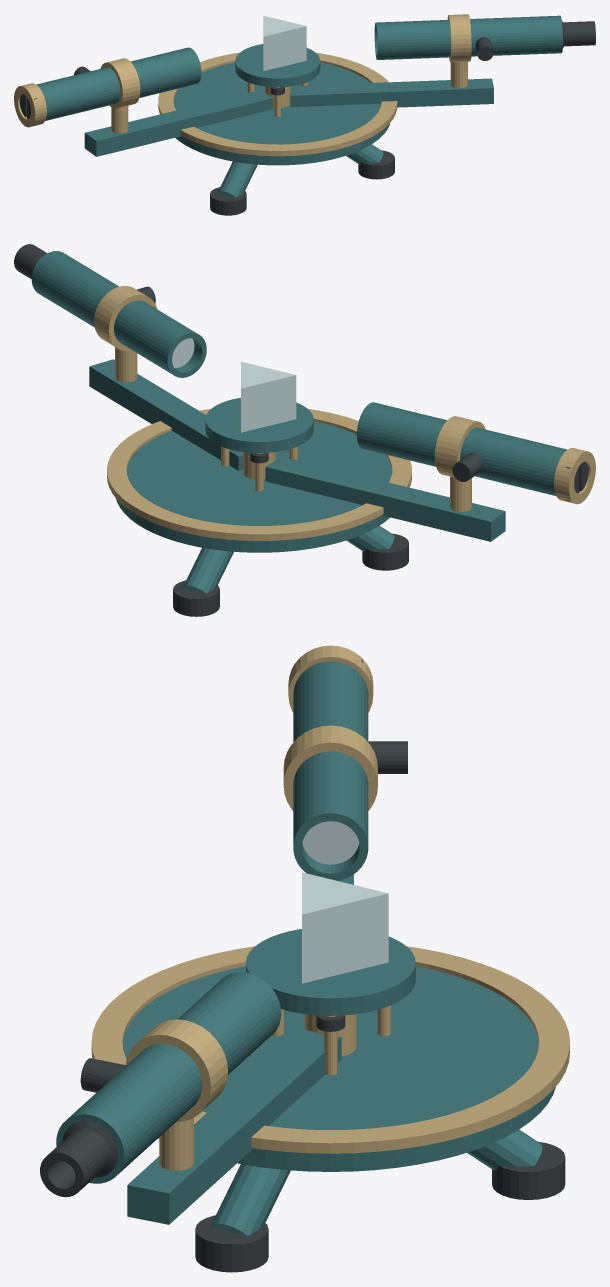
3 renders of one model, top to bottom at view 1: azimuth 30°, elevation 25°; view 2: azimuth 150°, elevation 25°; view 3: azimuth 270°, elevation 25°, orthographic. The views are drawn at different scales.
Visible parts, largest first — view 1: WholeCircularBearingTable, WholeLongRecessedTube1, WholeLongRecessedTube0, WholeIndependentRadialArm1, WholeBlankAnnularTableRim, WholeIndependentRadialArm0, WholeRaisedPrismTable, WholeOpaqueTriangularPrism, WholeTubeSupportCollar0, WholeTubeSupportCollar1, WholeRearSlitFrame, WholeShortSplayedSupport1 (+7 smaller); view 2: WholeCircularBearingTable, WholeLongRecessedTube0, WholeLongRecessedTube1, WholeBlankAnnularTableRim, WholeIndependentRadialArm0, WholeIndependentRadialArm1, WholeRaisedPrismTable, WholeOpaqueTriangularPrism, WholeRearSlitFrame, WholeTubeSupportCollar1, WholeTubeSupportCollar0, WholeShortSplayedSupport0 (+8 smaller); view 3: WholeCircularBearingTable, WholeBlankAnnularTableRim, WholeLongRecessedTube1, WholeIndependentRadialArm1, WholeLongRecessedTube0, WholeRaisedPrismTable, WholeOpaqueTriangularPrism, WholeSmallRecessedOcular, WholeTubeSupportCollar1, WholeShortSplayedSupport2, WholeTubeSupportCollar0, WholeGroundPad2 (+8 smaller).
Part boxes in pixels (x1=…): WholeCircularBearingTable: x1=173, y1=62, x2=389, y2=165; WholeLongRecessedTube1: x1=374, y1=15, x2=562, y2=59; WholeLongRecessedTube0: x1=36, y1=47, x2=201, y2=120; WholeIndependentRadialArm1: x1=290, y1=78, x2=493, y2=107; WholeBlankAnnularTableRim: x1=158, y1=52, x2=397, y2=156; WholeIndependentRadialArm0: x1=84, y1=89, x2=272, y2=156; WholeRaisedPrismTable: x1=235, y1=44, x2=320, y2=87; WholeOpaqueTriangularPrism: x1=263, y1=15, x2=306, y2=71; WholeTubeSupportCollar0: x1=100, y1=58, x2=140, y2=108; WholeTubeSupportCollar1: x1=447, y1=14, x2=471, y2=62; WholeRearSlitFrame: x1=14, y1=83, x2=46, y2=127; WholeShortSplayedSupport1: x1=217, y1=161, x2=257, y2=197; WholeCircularBearingTable: x1=116, y1=421, x2=392, y2=552; WholeLongRecessedTube0: x1=356, y1=402, x2=567, y2=495; WholeLongRecessedTube1: x1=31, y1=251, x2=206, y2=377; WholeBlankAnnularTableRim: x1=107, y1=409, x2=411, y2=540; WholeIndependentRadialArm0: x1=265, y1=456, x2=505, y2=541; WholeIndependentRadialArm1: x1=89, y1=359, x2=242, y2=470; WholeRaisedPrismTable: x1=205, y1=397, x2=313, y2=453; WholeOpaqueTriangularPrism: x1=241, y1=361, x2=296, y2=432; WholeRearSlitFrame: x1=554, y1=448, x2=595, y2=504; WholeTubeSupportCollar1: x1=94, y1=286, x2=156, y2=351; WholeTubeSupportCollar0: x1=434, y1=416, x2=485, y2=479; WholeShortSplayedSupport0: x1=183, y1=547, x2=233, y2=593; WholeCircularBearingTable: x1=122, y1=966, x2=555, y2=1171; WholeBlankAnnularTableRim: x1=91, y1=946, x2=569, y2=1153; WholeLongRecessedTube1: x1=56, y1=972, x2=281, y2=1183; WholeIndependentRadialArm1: x1=127, y1=1029, x2=341, y2=1224; WholeLongRecessedTube0: x1=293, y1=661, x2=368, y2=880; WholeRaisedPrismTable: x1=246, y1=929, x2=415, y2=1015; WholeOpaqueTriangularPrism: x1=302, y1=872, x2=388, y2=983; WholeSmallRecessedOcular: x1=40, y1=1120, x2=117, y2=1197; WholeTubeSupportCollar1: x1=126, y1=1019, x2=227, y2=1121; WholeShortSplayedSupport2: x1=210, y1=1164, x2=290, y2=1235; WholeTubeSupportCollar0: x1=283, y1=725, x2=377, y2=810; WholeGroundPad2: x1=195, y1=1215, x2=268, y2=1272.
Size of the model in its own units: 1.21 by 0.339 by 0.5496.
